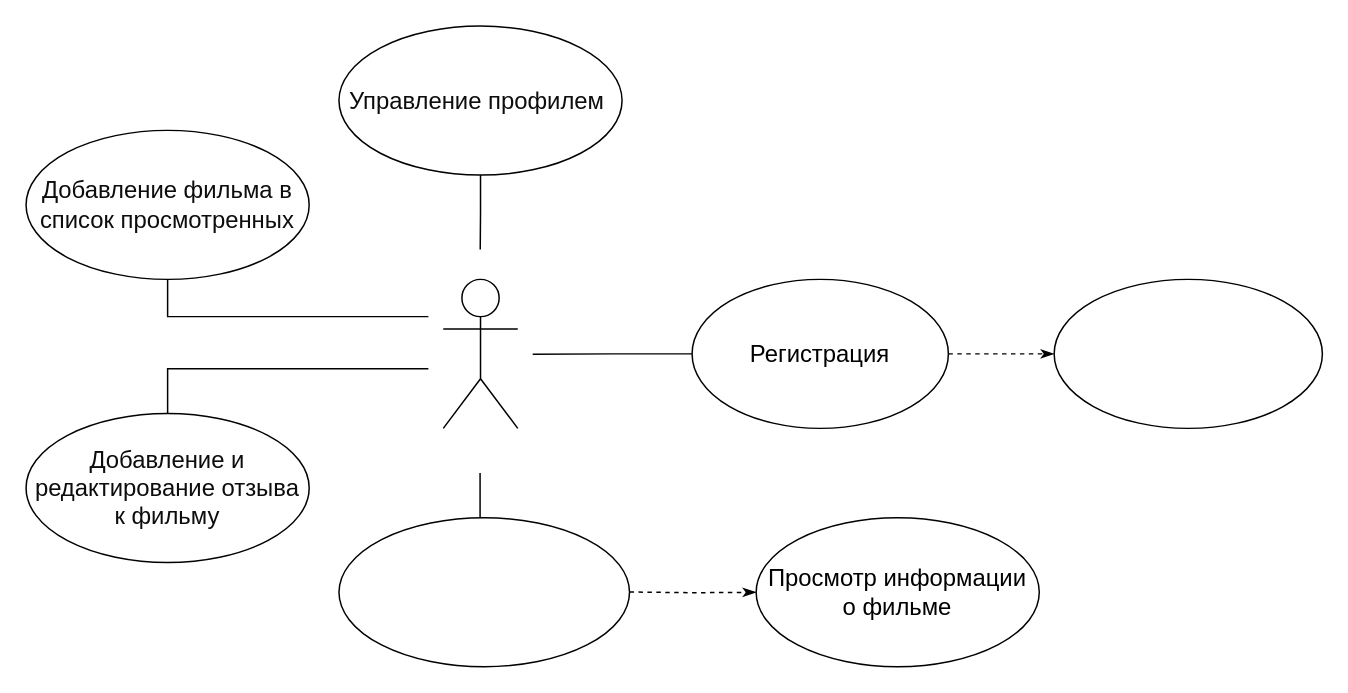
Image size: 1348x693. Some labels were removed from this diagram. The box of each missing label's shape, as (x1, y1, x2, y2) in pixels:
Авторизация: (1053, 278, 1322, 428)
Пользователь: (442, 278, 518, 428)
Просмотр коллекции фильмов: (337, 516, 630, 667)
